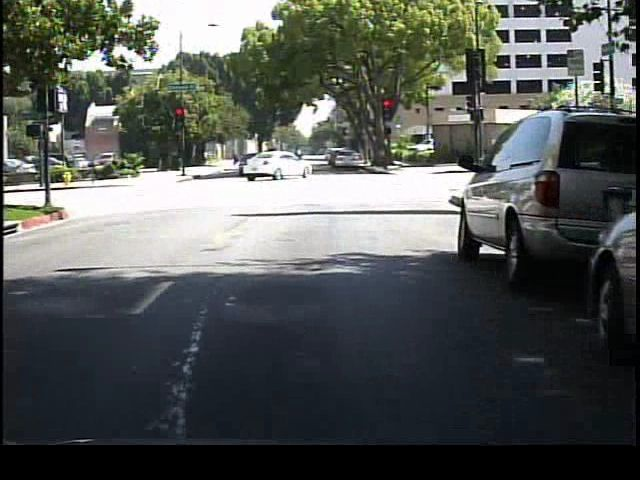person: (291, 142, 308, 176)
